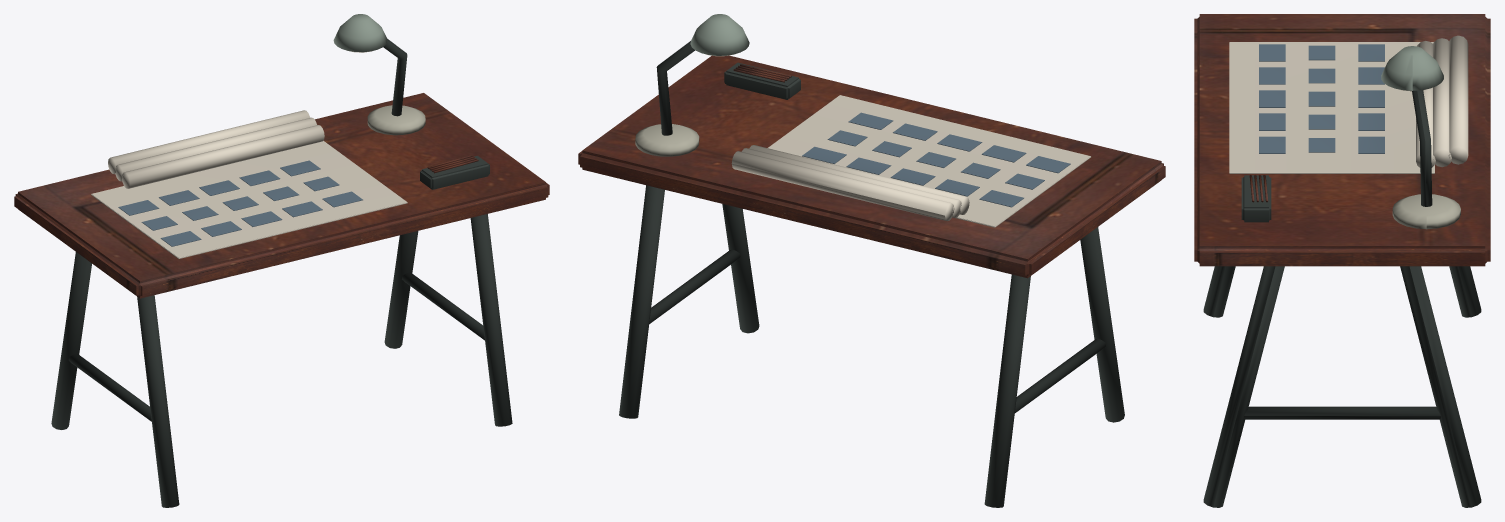
File: studio-drafting-desk.glb
The picture shows the model from 3 angles, left to right: view 1: azimuth 30°, elevation 25°; view 2: azimuth 150°, elevation 25°; view 3: azimuth 270°, elevation 25°; orthographic projection. The views are drawn at different scales.
Parts seen in each view (by area): view 1: Frame; view 2: Frame; view 3: Frame.
Boxes of the visible parts, x1,y1,x2,y2 form: Frame: (14,14,549,507); Frame: (578,14,1165,507); Frame: (1194,14,1490,507).
Size of the model in its own units: 1.34 by 1.12 by 0.71.
7 materials, 1 textured.
